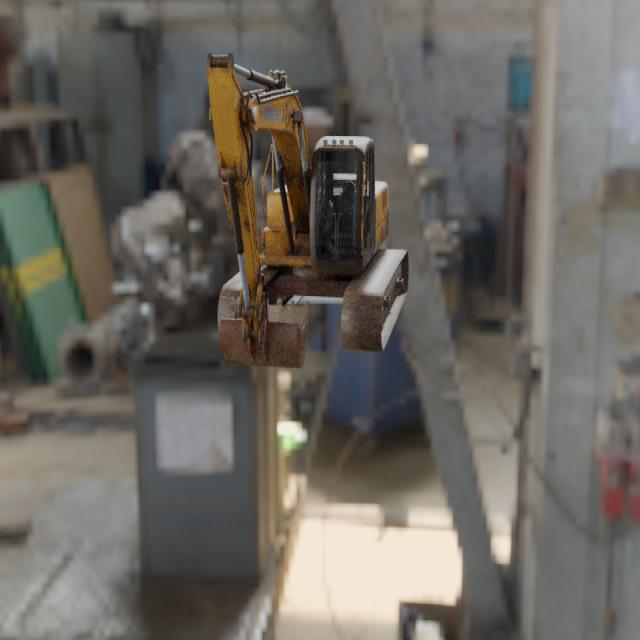excavator: (206, 52, 409, 369)
